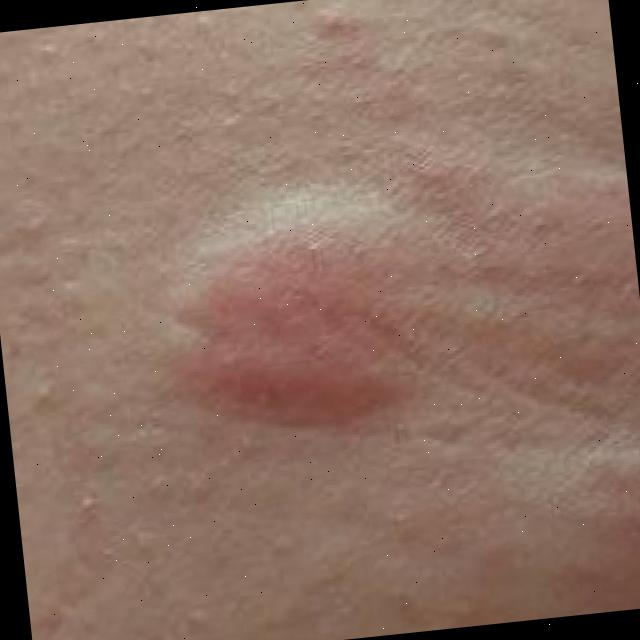sinek: (124, 182, 502, 458)
